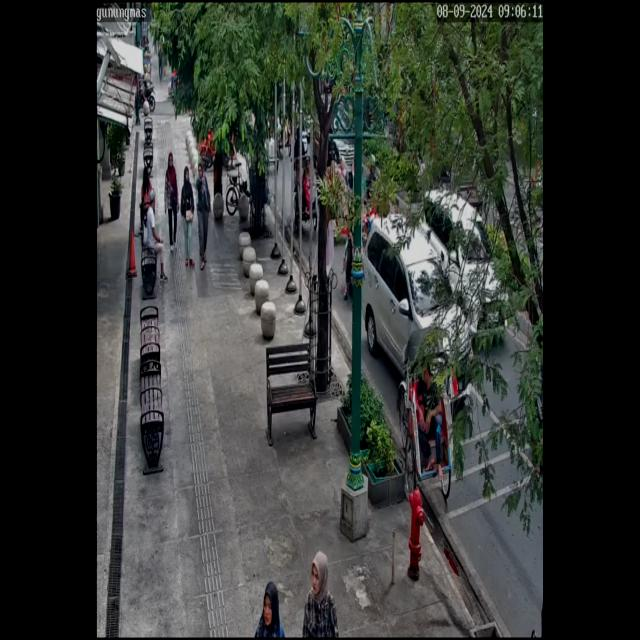Car: (358, 205, 473, 426), (416, 183, 504, 355)
